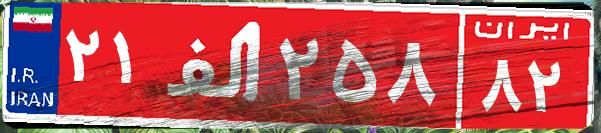1: (110, 28, 158, 105)
2: (273, 28, 330, 110), (57, 26, 110, 107), (525, 38, 570, 115)
5: (330, 28, 385, 110)
8: (385, 28, 445, 110), (475, 38, 525, 113)
الف: (158, 15, 273, 115)
